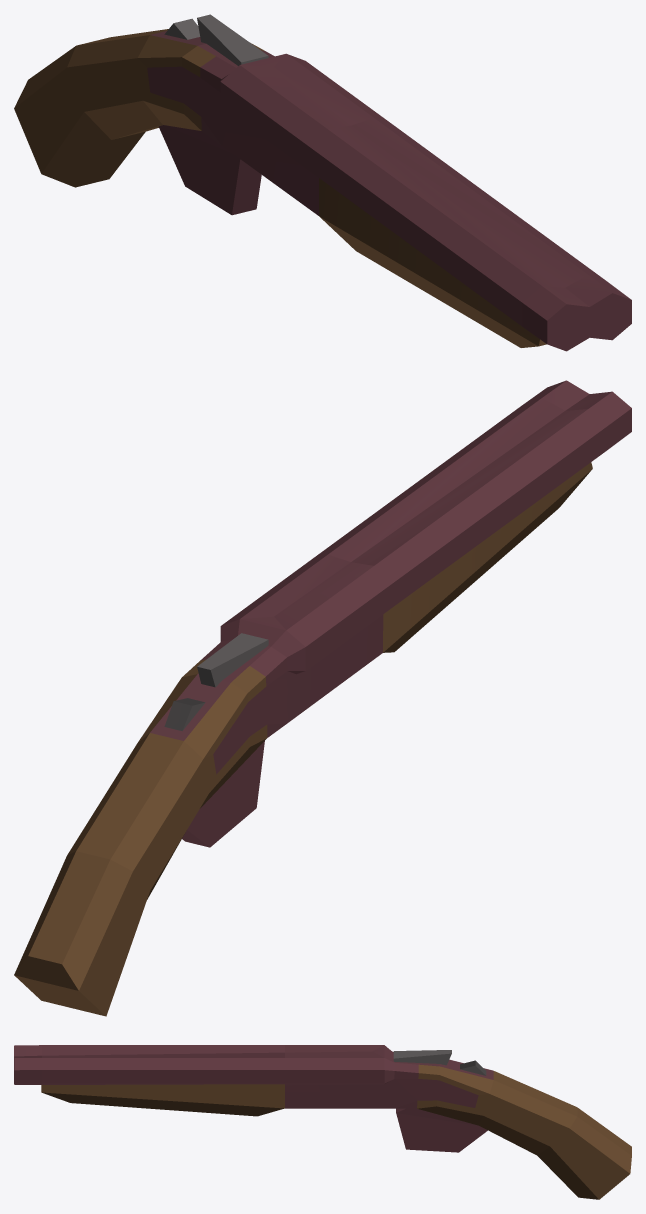
The model's file is SM_Shotgun_SawedOff.fbx.
The picture shows the model from 3 angles, top to bottom: view 1: azimuth 30°, elevation 25°; view 2: azimuth 150°, elevation 25°; view 3: azimuth 270°, elevation 25°; orthographic projection. The views are drawn at different scales.
Parts seen in each view (by area): view 1: SM_Shotgun_SawedOff; view 2: SM_Shotgun_SawedOff; view 3: SM_Shotgun_SawedOff.
Boxes of the visible parts, x1,y1,x2,y2 form: SM_Shotgun_SawedOff: (14,14,631,351); SM_Shotgun_SawedOff: (14,380,631,1016); SM_Shotgun_SawedOff: (14,1045,631,1199).
Size of the model in its own units: 0.0483 by 0.1346 by 0.5332.
